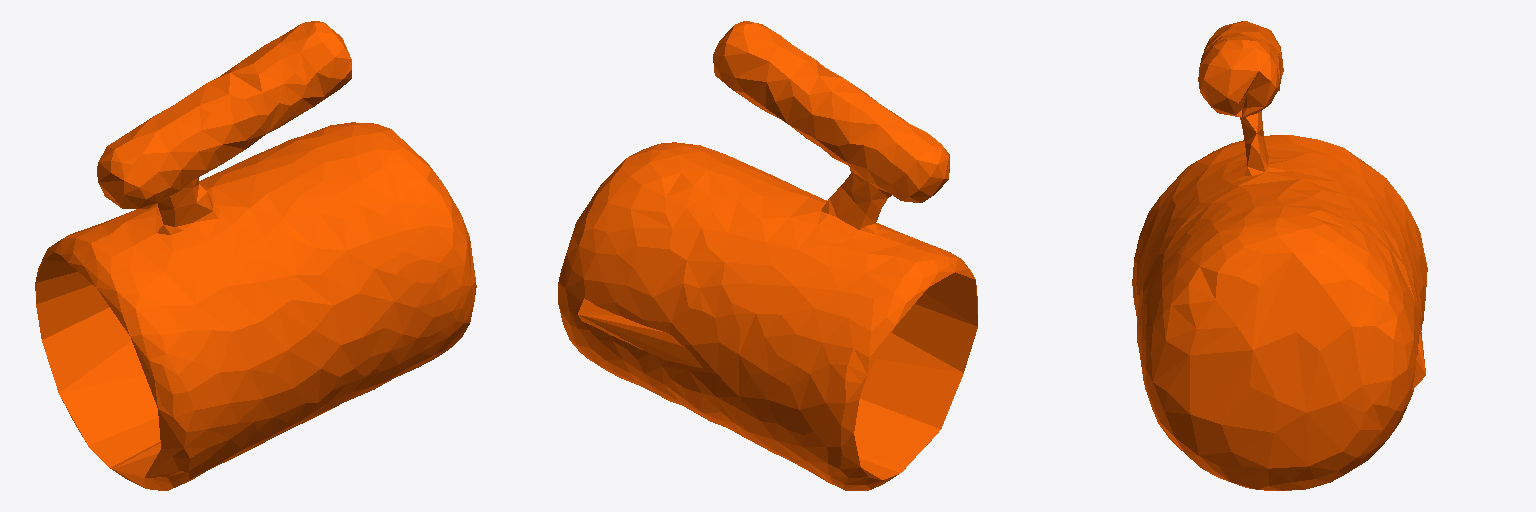
robot.urdf — yellow_mug_head:
<?xml version="1.0" ?>
<robot name="yellow_mug_head">
   <material name="obj_color">
      <color rgba="1.0 0.423529411765 0.0392156862745 1.0"/>
   </material>
   <link name="top">
      <inertial>
         <origin rpy="0.0006480293443745626 0.0007596911918405261 0.001048287910405133" xyz="0.01042295150392848 0.0002052599971437568 -0.001229498796233392"/>
         <mass value="0.4059473002238372"/>
         <inertia ixx="0.0006622807389052833" ixy="-2.195403319838254e-05" ixz="3.402469237889986e-05" iyy="0.001043336087678031" iyz="3.498149728080243e-05" izz="0.0007503916200369079"/>
      </inertial>
      <visual>
         <origin rpy="0 0 0" xyz="0 0 0"/>
         <geometry>
            <mesh filename="top_watertight_tiny.stl" scale="1 1 1"/>
         </geometry>
         <material name="obj_color"/>
      </visual>
      <collision>
         <origin rpy="0 0 0" xyz="0 0 0"/>
         <geometry>
            <mesh filename="top_watertight_tiny.obj" scale="1 1 1"/>
         </geometry>
      </collision>
   </link>
   <link name="bottom">
      <inertial>
         <origin rpy="1.633333333199431e-08 1.633333333199431e-08 1.633333333362855e-08" xyz="0.3464080000000008 0.3464080000000008 0.3464080000000008"/>
         <mass value="0.0009800000000000017"/>
         <inertia ixx="1.633333333253906e-08" ixy="5.447480642029219e-19" ixz="5.447480642029219e-19" iyy="1.633333333253906e-08" iyz="5.447480642029219e-19" izz="1.633333333253906e-08"/>
      </inertial>
      <visual>
         <origin rpy="0 0 0" xyz="0 0 0"/>
         <geometry>
            <mesh filename="bottom_watertight_tiny.stl" scale="1 1 1"/>
         </geometry>
         <material name="obj_color"/>
      </visual>
   </link>
   <link name="world"/>
   <joint name="world_to_base" type="fixed">
      <origin xyz="0 0 0"/>
      <axis xyz="0 0 0"/>
      <parent link="world"/>
      <child link="bottom"/>
   </joint>
   <joint name="rotation" type="revolute">
      <origin xyz="0 0 0"/>
      <axis xyz="0 0 -1"/>
      <parent link="bottom"/>
      <child link="top"/>
      <dynamics damping="1.0" friction="1.0"/>
      <limit effort="0.1" velocity="0.1" lower="0" upper="0.001"/>
   </joint>
</robot>

--- What the picture shows (computed from the rendered views, not written in the file) ---
The picture shows the robot from 3 angles, left to right: view 1: azimuth 30°, elevation 25°; view 2: azimuth 150°, elevation 25°; view 3: azimuth 270°, elevation 25°; orthographic projection.
Model yellow_mug_head with 3 links and 2 joints (1 revolute, 1 fixed), rooted at world, posed every joint at zero.
Links seen in each view (by area): view 1: top; view 2: top; view 3: top.
Link boxes in pixels (box(x1,y1,x2,y2)): top: box(35, 21, 476, 490); top: box(558, 21, 977, 490); top: box(1132, 21, 1427, 490).
Size in the robot's own frame: 0.1308 by 0.0837 by 0.1457 metres.
1 mesh visuals loaded from 2 distinct referenced files (1 binary STL); not drawn: 1 (reference not matched to a file when rendering).
